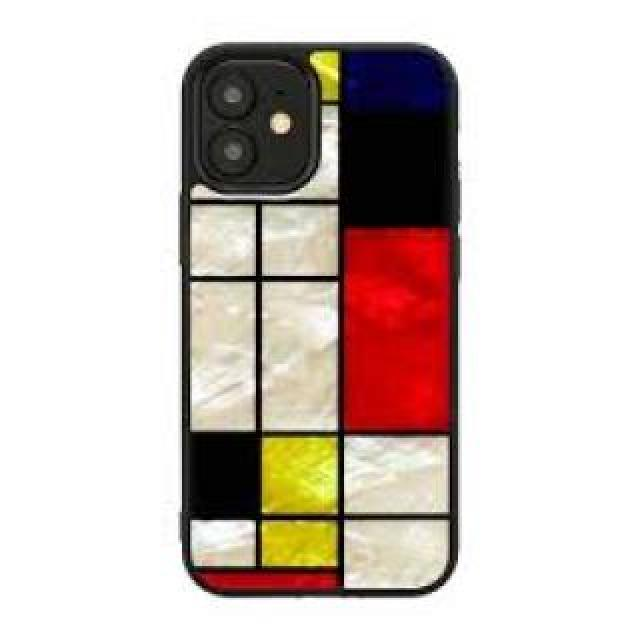smart phone: (155, 26, 488, 612)
